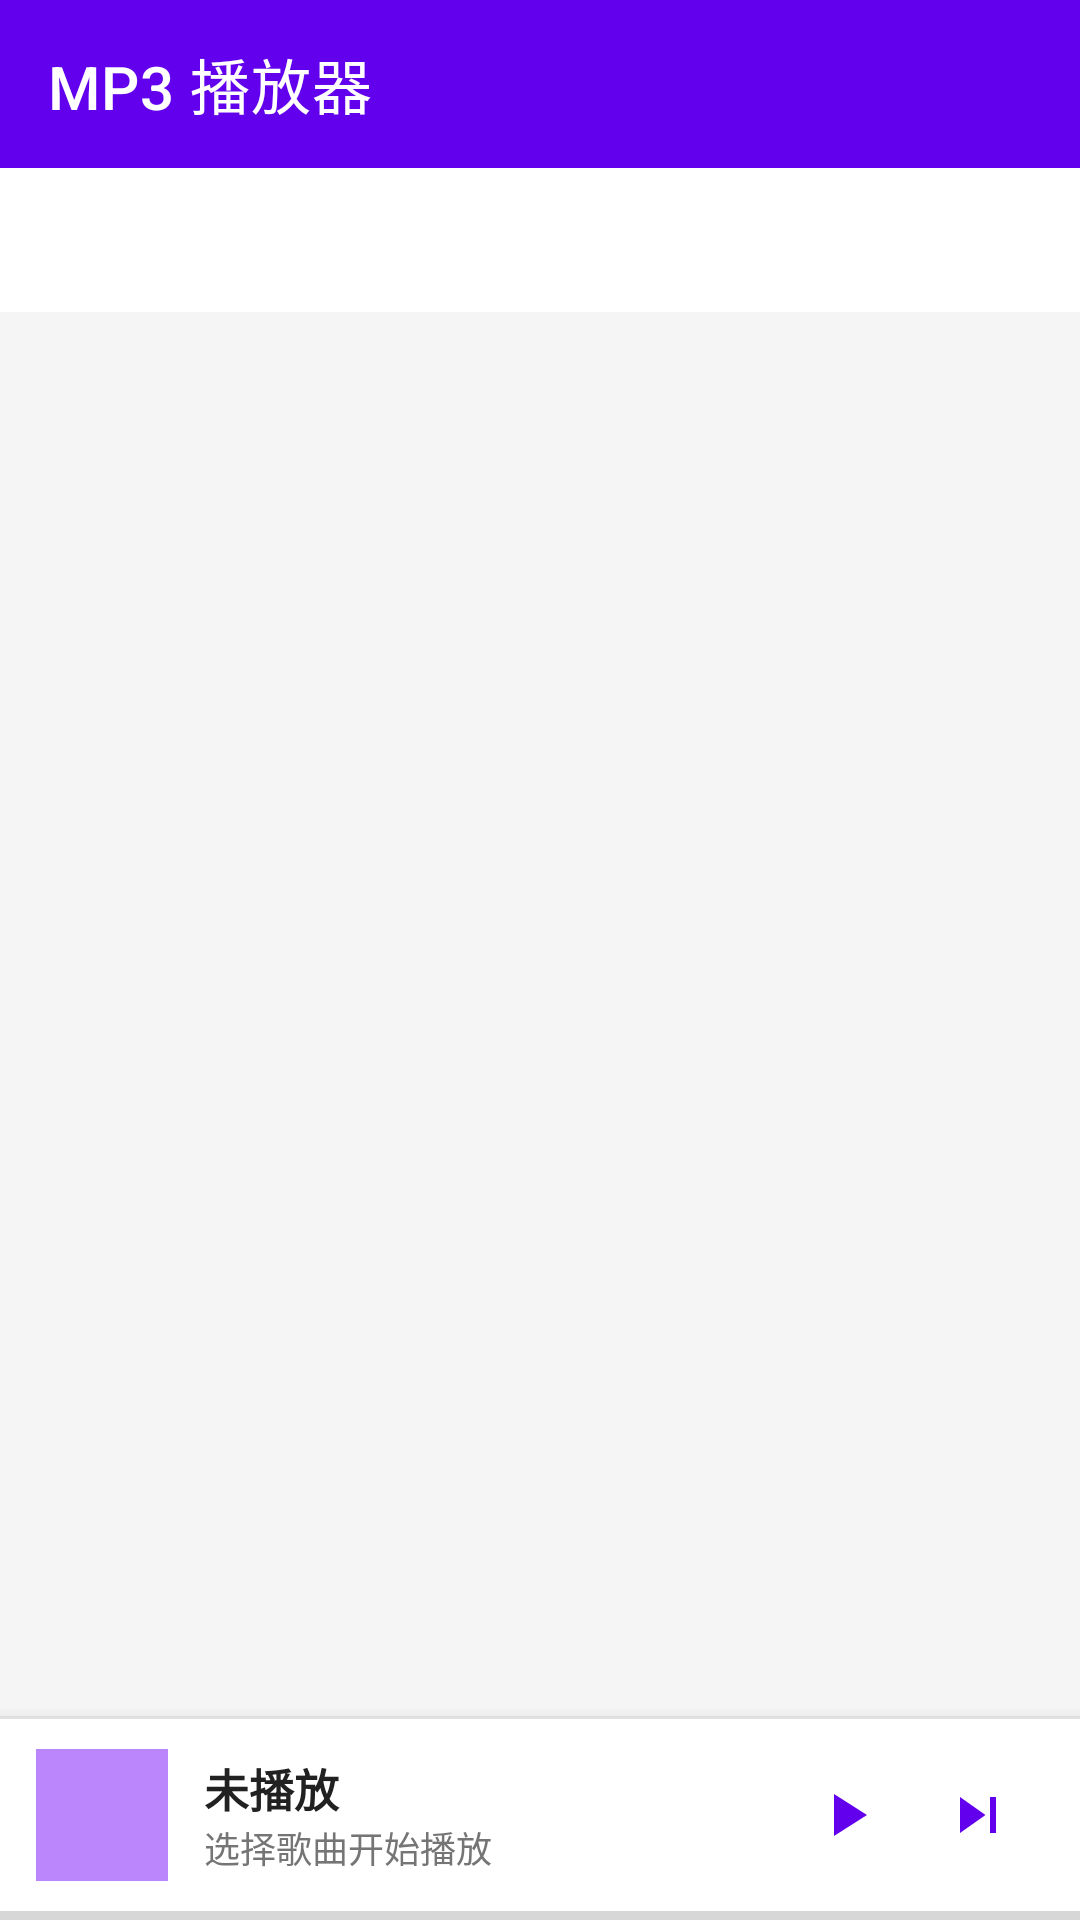

Named icons in this screenshot (1080x1920) and their centers, point (x, y):
下一首: point (978, 1815)
